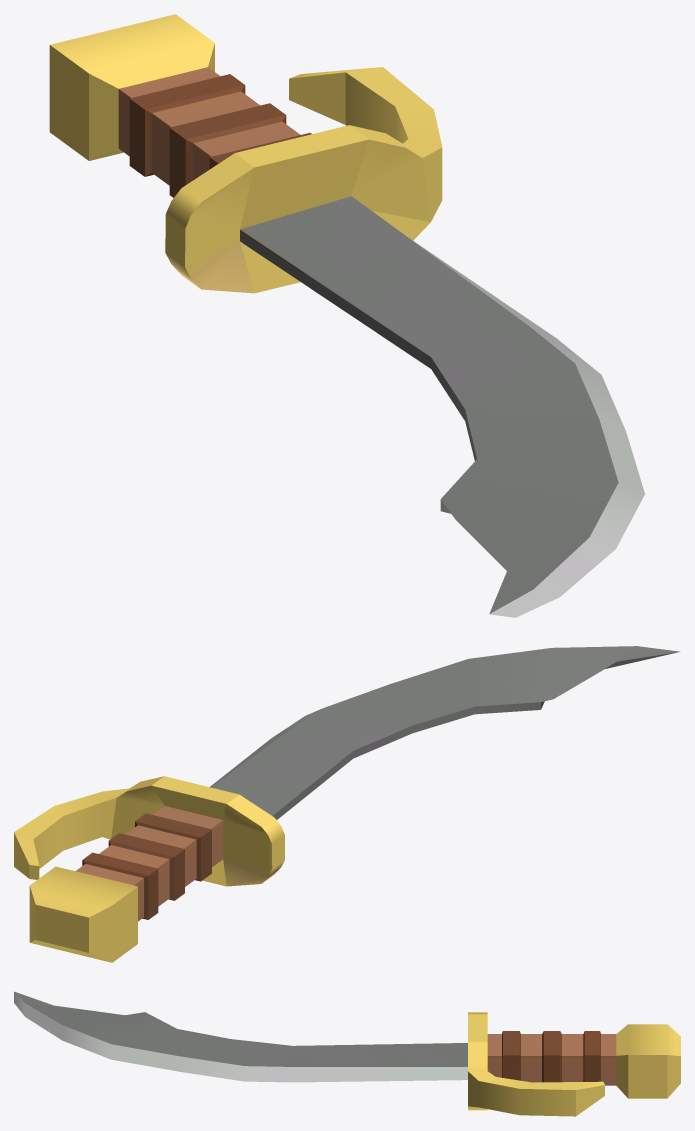
File: sword.glb
3 views of the same model, one above another, from view 1: azimuth 30°, elevation 25°; view 2: azimuth 150°, elevation 25°; view 3: azimuth 270°, elevation 25° (orthographic). The views are drawn at different scales.
Visible parts, largest first — view 1: Box002; view 2: Box002; view 3: Box002.
Part boxes in pixels (x1,y1,x2,y2): Box002: (49, 14, 644, 617); Box002: (14, 646, 680, 962); Box002: (14, 991, 680, 1116).
Bounding box in the file's own units: 31.18 × 8.24 × 79.07.
1 material, 1 textured.
